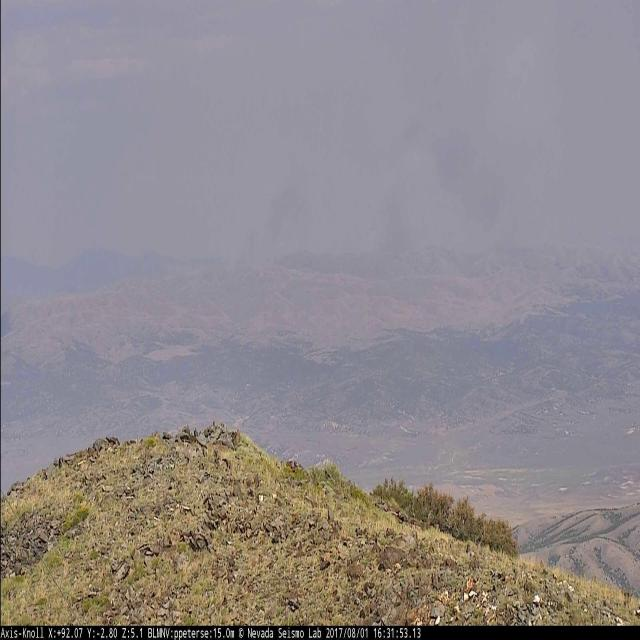smoke: (235, 0, 564, 262)
